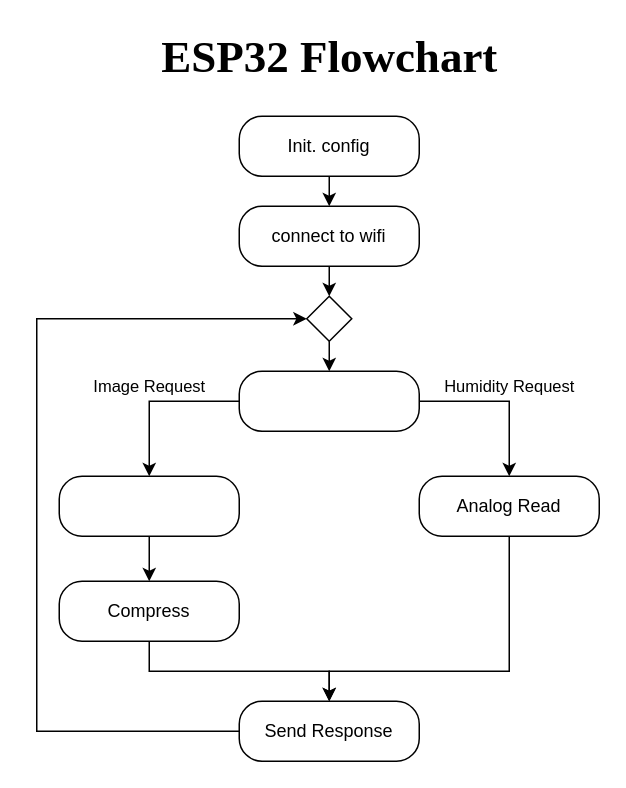
Some shapes in this 626 by 788 pixel diagram are drawn without their labels. Each missing label, with the centre of its shape:
"Listen Socket" goes at point (328, 400).
"Take Picture" goes at point (148, 505).
